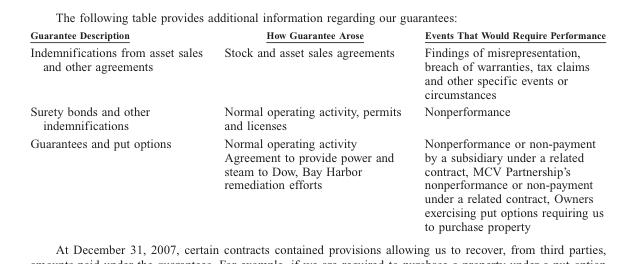table: (29, 29, 605, 232)
table column: (212, 29, 412, 232), (412, 29, 605, 232), (29, 29, 212, 232)
table column header: (29, 29, 605, 42)
table row: (29, 133, 605, 232), (29, 42, 605, 102), (29, 102, 605, 133), (29, 29, 605, 42)
